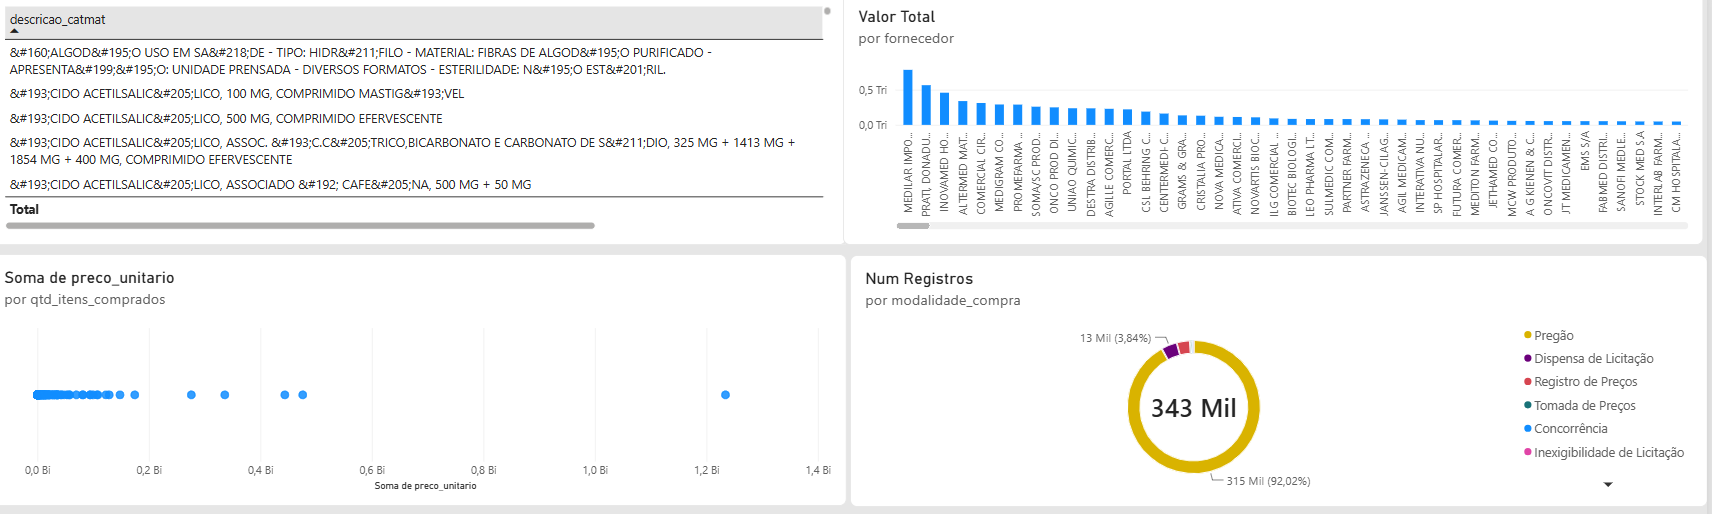

What the dashboard file says about the page in this screenshot:
{"tool":"powerbi","page":{"name":"Produtos e Fornecedores","canvas":[1920,1080],"ordinal":1},"visuals":[{"type":"tableEx","fields":{"Values":["BPS_Consolidado.descricao_catmat","Sum(BPS_Consolidado.qtd_itens_comprados)","BPS_Consolidado.Valor Total"]},"box":[11,0,952.6,279.5],"z":0},{"type":"clusteredColumnChart","fields":{"Category":["BPS_Consolidado.fornecedor"],"Y":["BPS_Consolidado.Valor Total"]},"box":[960,0,956.3,279.5],"z":1},{"type":"scatterChart","fields":{"Category":["BPS_Consolidado.qtd_itens_comprados"],"X":["Sum(BPS_Consolidado.preco_unitario)"]},"box":[11,290,953,280],"z":2},{"type":"donutChart","fields":{"Category":["BPS_Consolidado.modalidade_compra"],"Y":["BPS_Consolidado.Num Registros"]},"box":[967.4,290.6,953,280],"z":3}]}

Visuals, with their boxes on the page's 1920x1080 design canvas (x1, y1, x2, y2). These are canvas units, not pixel positions in the 1712x514 screenshot, which may show the page scaled, cropped or inside an application window:
tableEx - BPS_Consolidado.descricao_catmat x Sum(BPS_Consolidado.qtd_itens_comprados): bbox=(11, 0, 964, 280)
clusteredColumnChart - BPS_Consolidado.fornecedor x BPS_Consolidado.Valor Total: bbox=(960, 0, 1916, 280)
scatterChart - BPS_Consolidado.qtd_itens_comprados x Sum(BPS_Consolidado.preco_unitario): bbox=(11, 290, 964, 570)
donutChart - BPS_Consolidado.modalidade_compra x BPS_Consolidado.Num Registros: bbox=(967, 291, 1920, 571)
